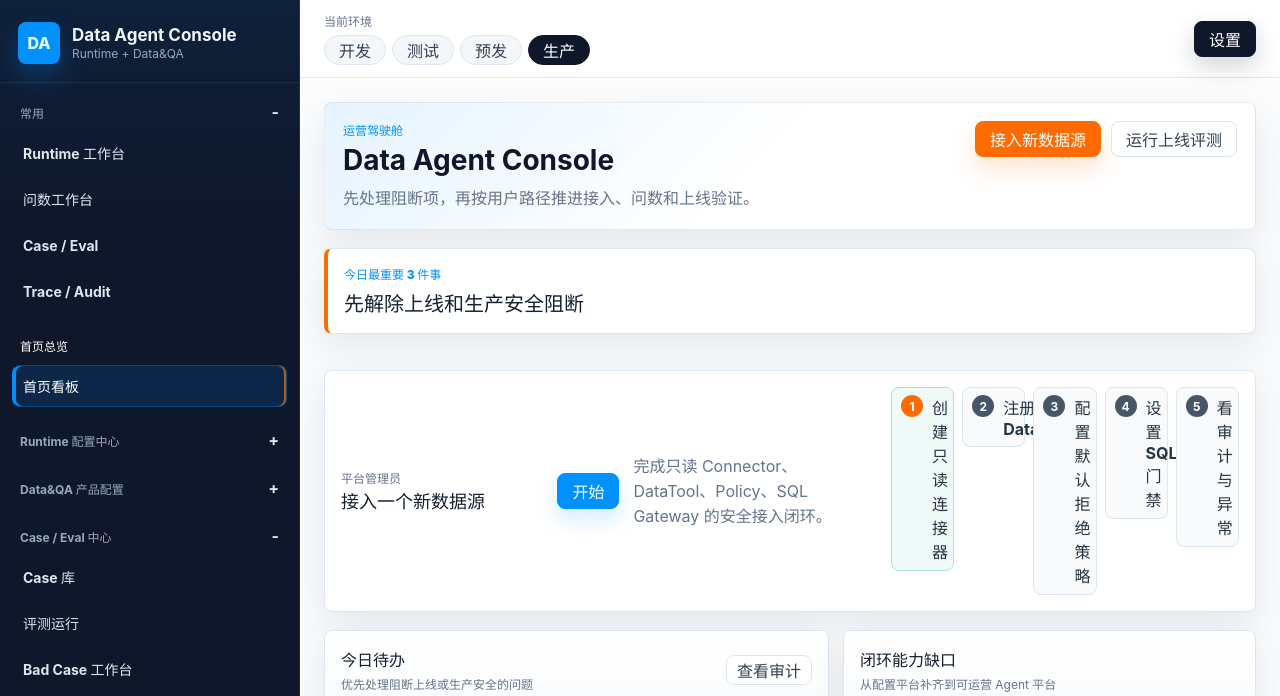
Test: Data Agent Console MVP › saves local configuration from a modal
Click the button named "Data&QA 产品配置+": (72, 489) [12,473,287,503]
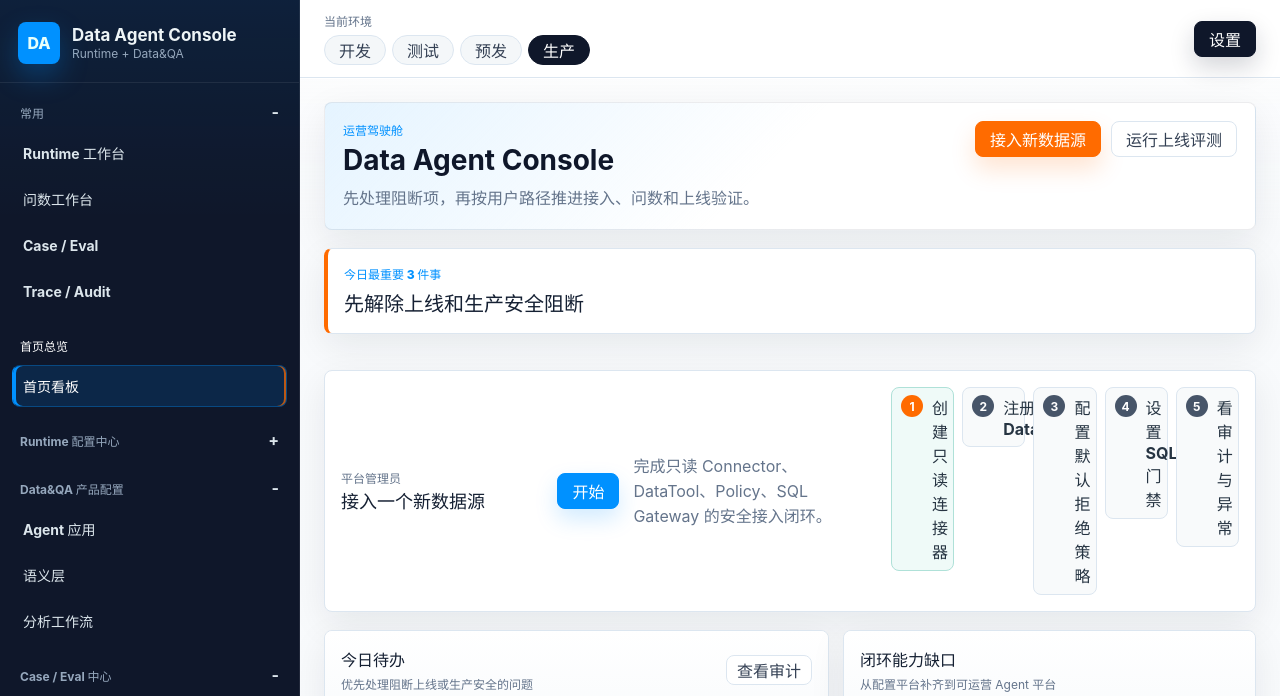
Click the button "语义层": (44, 576) [12,554,287,596]
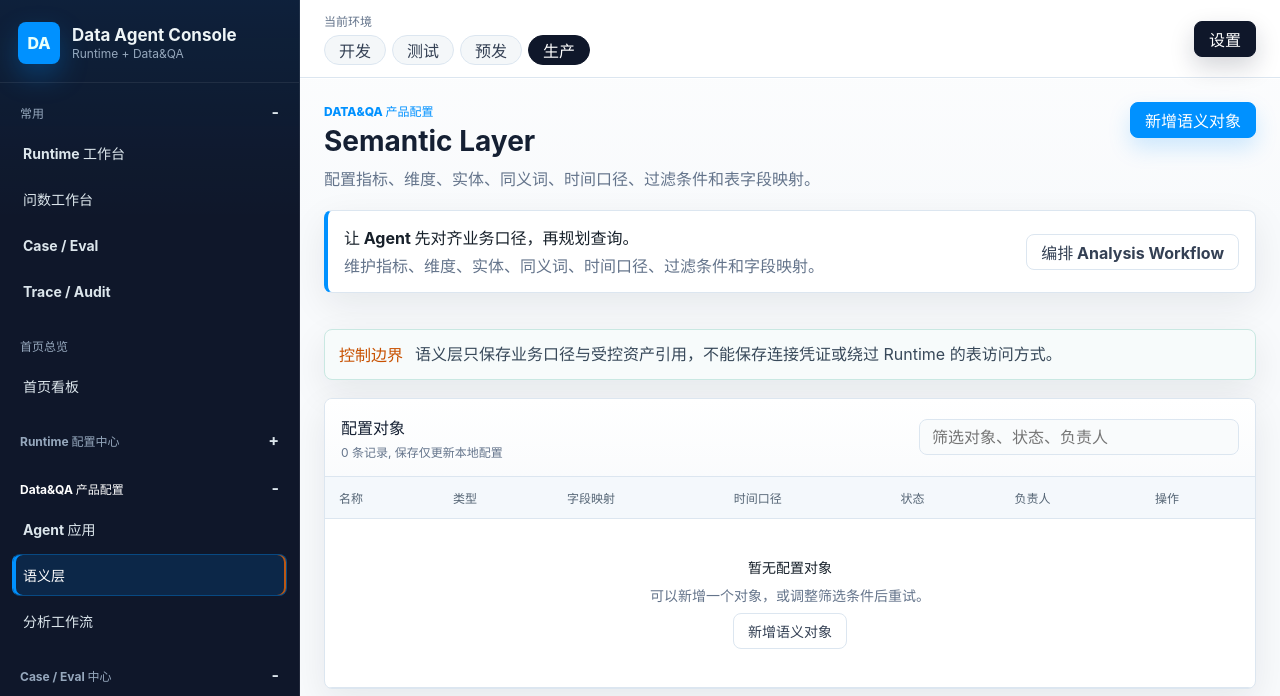
Click the button "新增语义对象" in the row of "Semantic Layer": (1193, 120) [1130,102,1256,138]
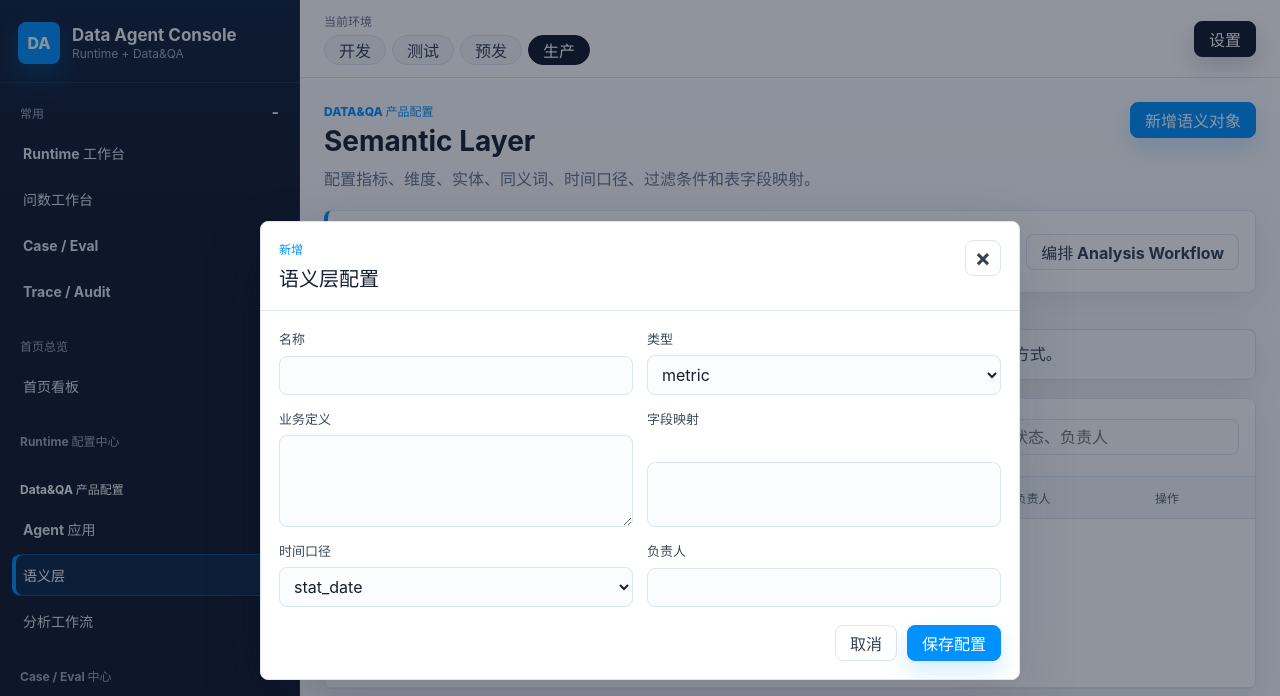
In the field labelled "名称": (456, 375) [279,356,633,394], type "退货率"
In the text box labelled "业务定义": (456, 480) [279,434,633,526], type "退货量 / 销售订单量"
In the field labelled "字段映射": (824, 494) [647,462,1001,526], type "return_count / sales_order_count"
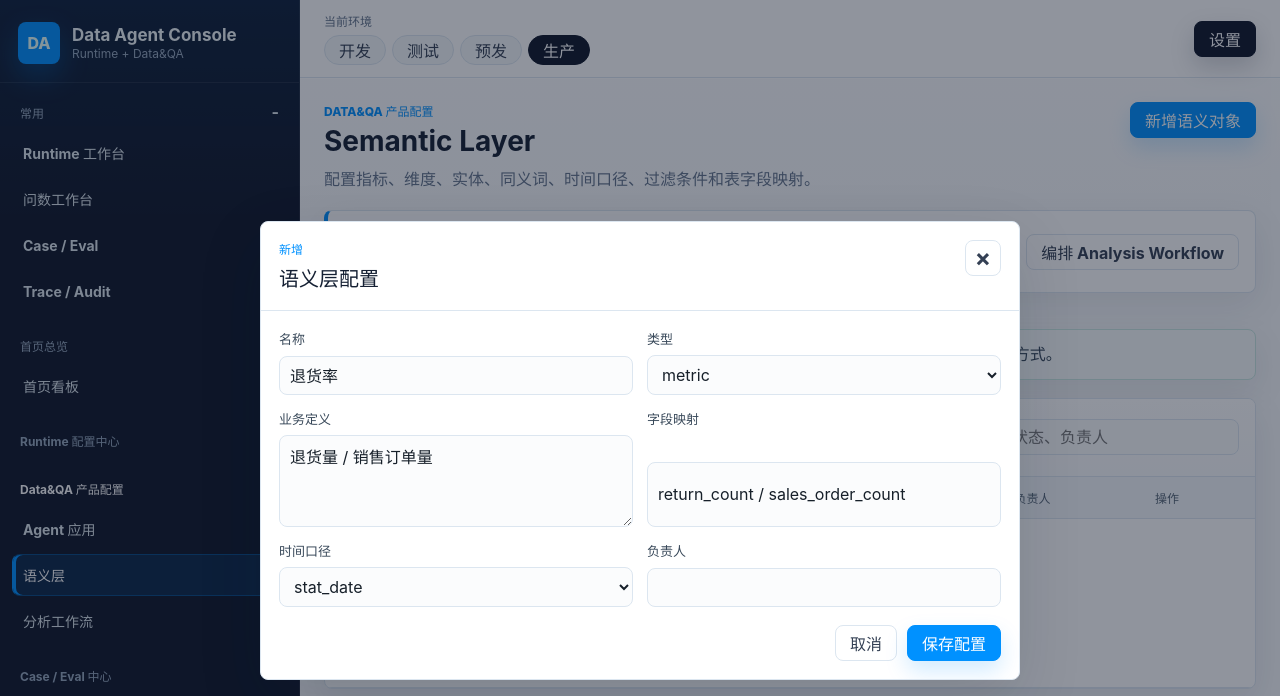
In the field labelled "负责人": (824, 587) [647,568,1001,606], type "数据分析师"
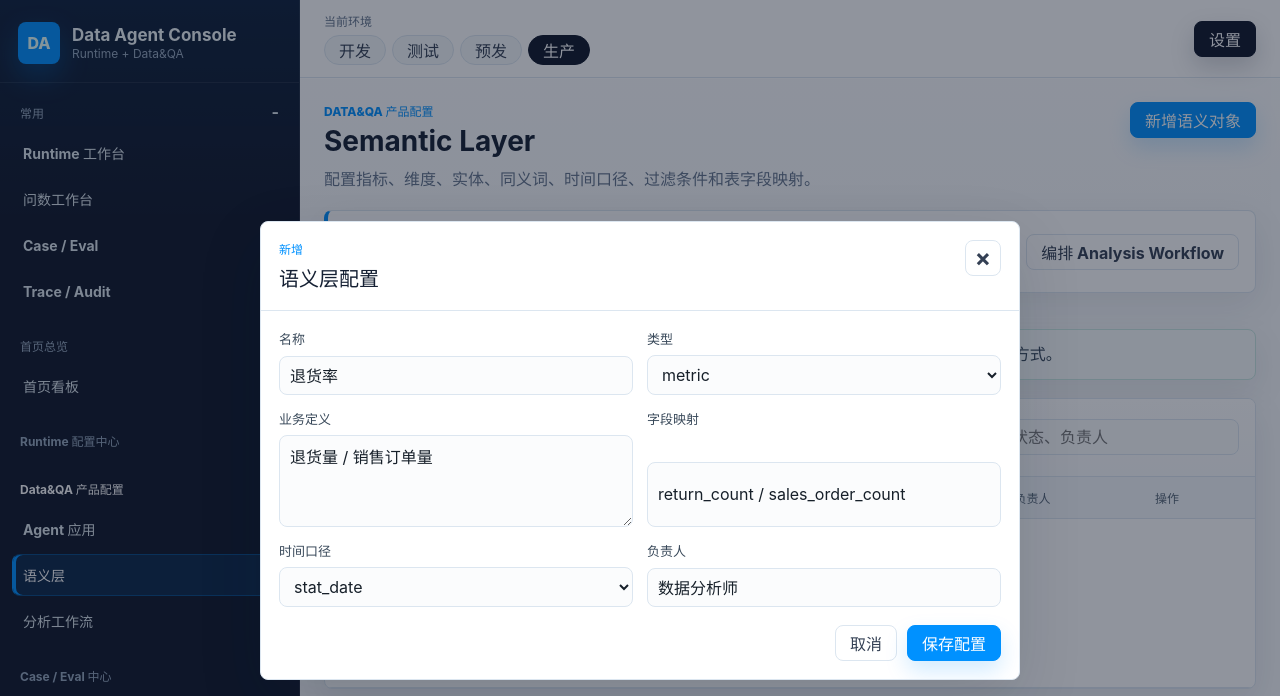
Click the button "保存配置": (954, 642) [907,624,1001,660]
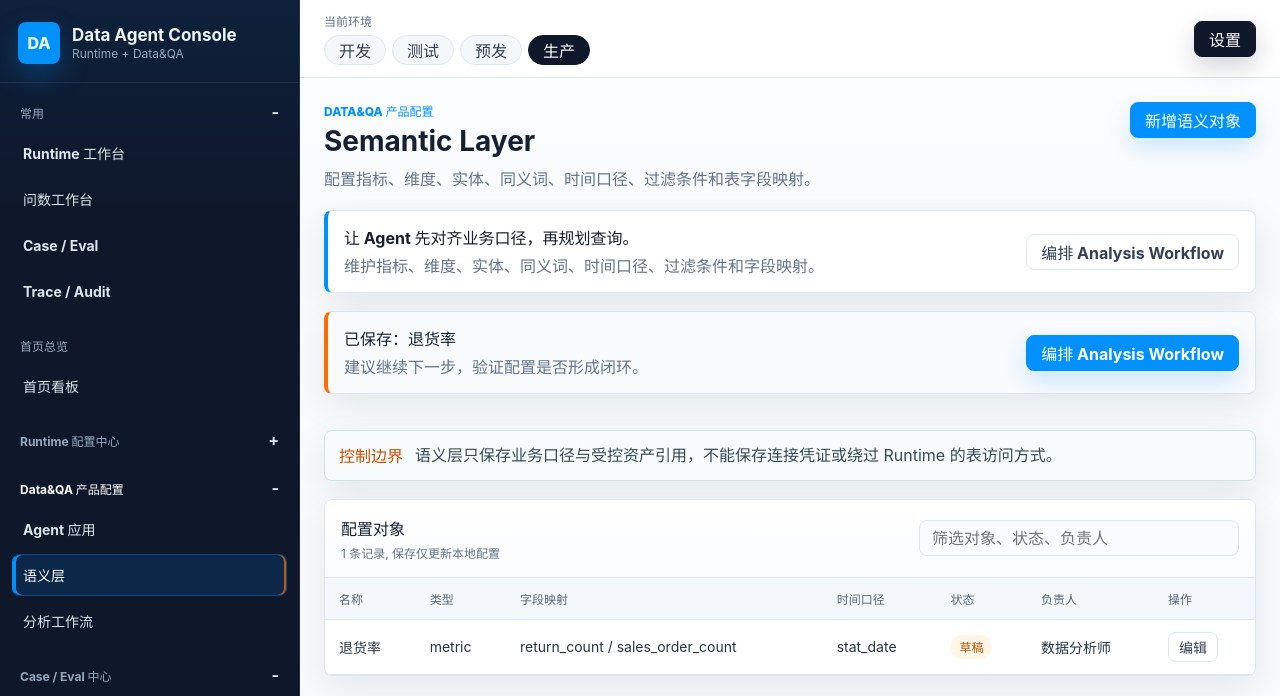
Result: the text "退货率" is shown at [339,637,381,657]
